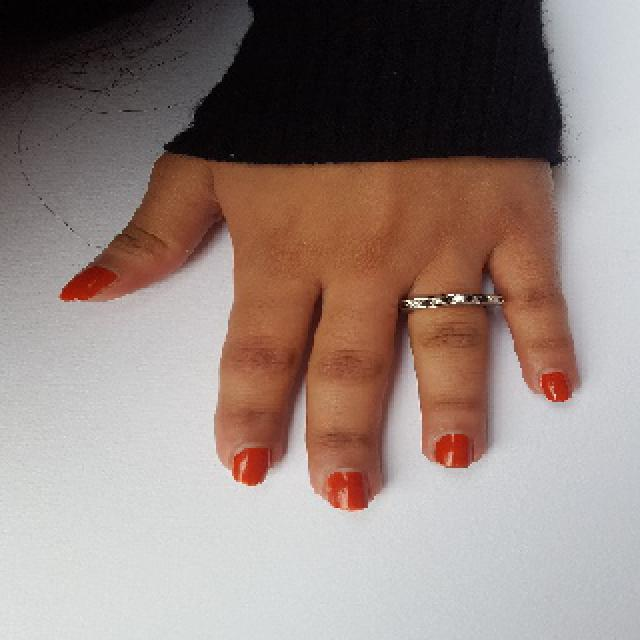Nail: (60, 265, 118, 301), (326, 470, 370, 510), (232, 448, 271, 485), (434, 434, 471, 468), (540, 371, 571, 401)
